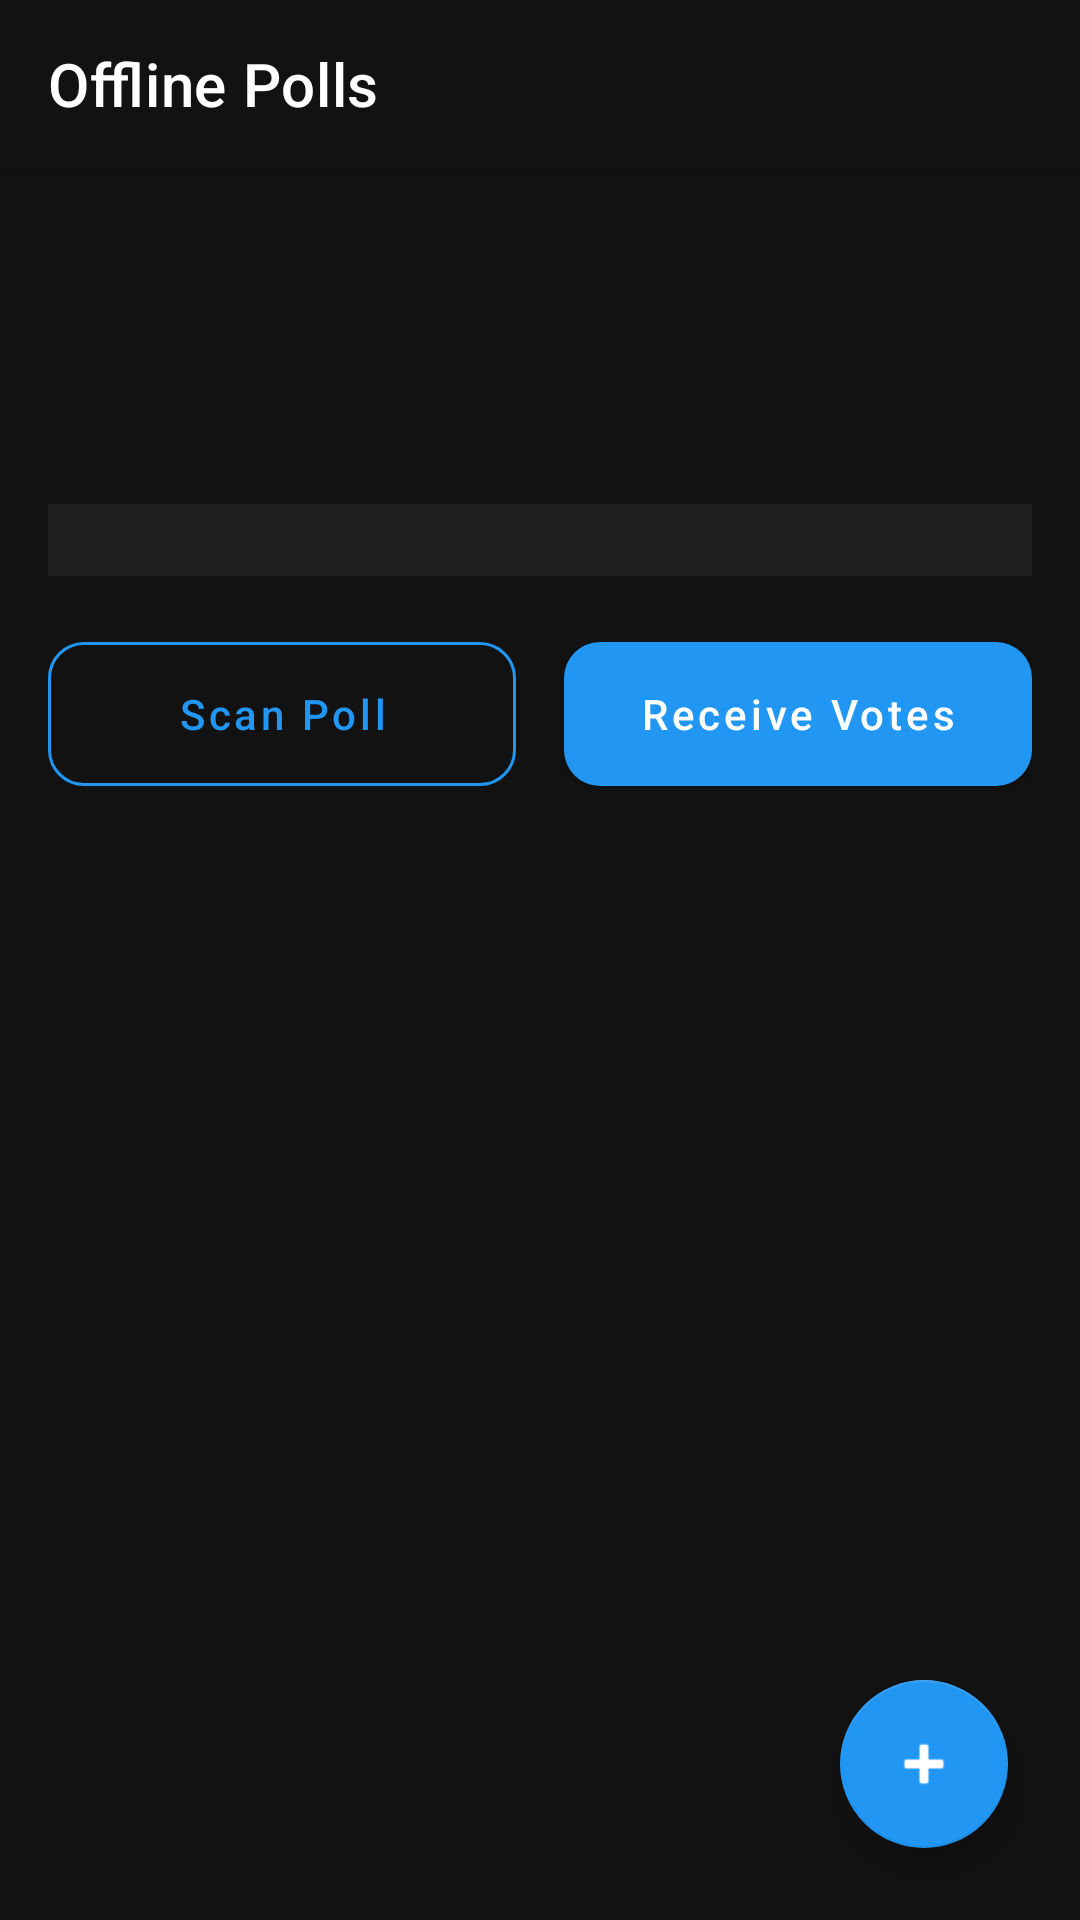

Icons on this 1080×1920 Android screen, each with the point to tap as [x,y]:
Create Poll: [924,1764]
